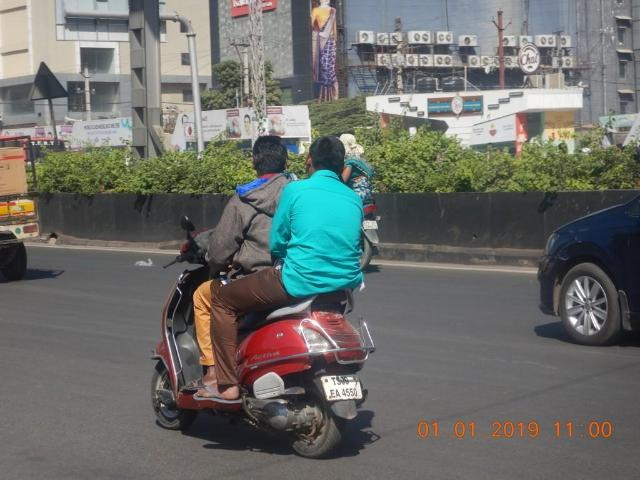motor: (150, 212, 379, 464)
non-helm: (306, 133, 349, 178), (250, 133, 290, 179)
